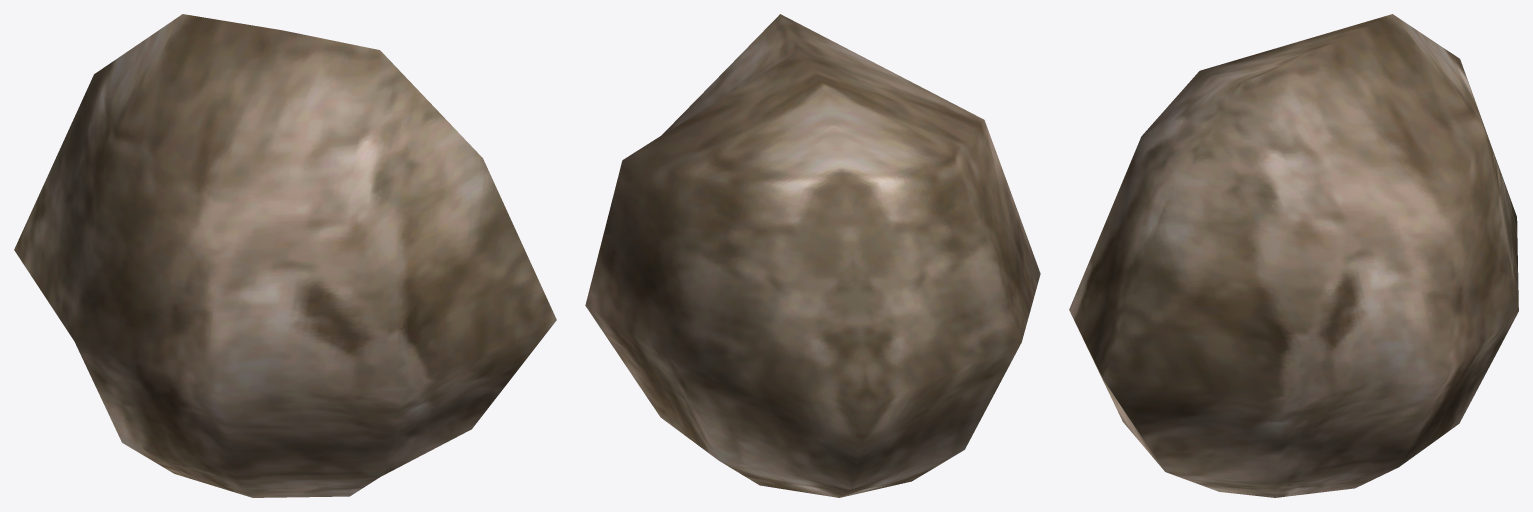
File: OVERHILL_A_01_ROCK100.fbx
The picture shows the model from 3 angles, left to right: view 1: azimuth 30°, elevation 25°; view 2: azimuth 150°, elevation 25°; view 3: azimuth 270°, elevation 25°; orthographic projection.
Visible parts, largest first — view 1: OVERHILL_A_01_ROCK100; view 2: OVERHILL_A_01_ROCK100; view 3: OVERHILL_A_01_ROCK100.
Boxes of the visible parts, left/top/right/bottom form: OVERHILL_A_01_ROCK100: left=14, top=14, right=556, bottom=497; OVERHILL_A_01_ROCK100: left=585, top=14, right=1040, bottom=497; OVERHILL_A_01_ROCK100: left=1069, top=14, right=1518, bottom=497.
Size of the model in its own units: 12369 by 11903 by 11624.
1 material, 1 textured.
